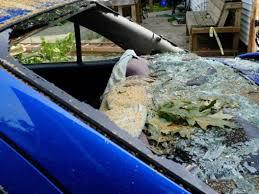Rear-windscreen-Damage: (8, 0, 258, 165)
